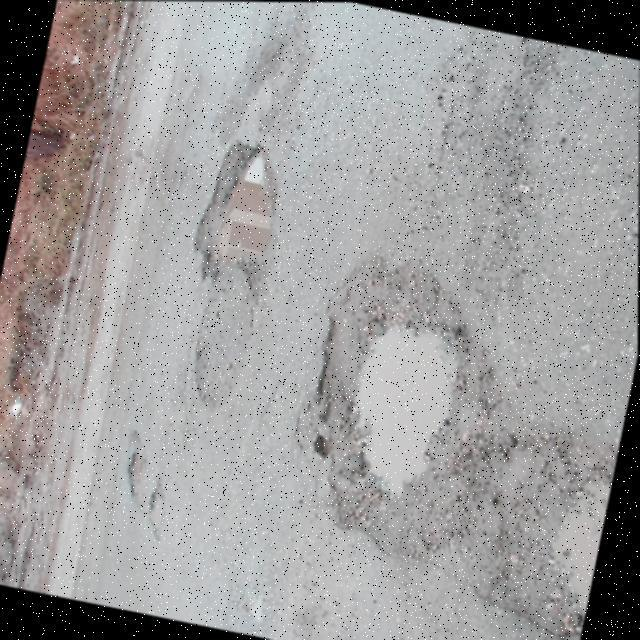pothole: (294, 279, 486, 525), (503, 433, 619, 630), (175, 128, 301, 304)
